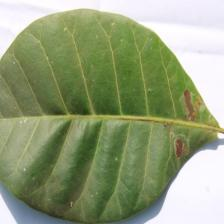leaf miner: (0, 7, 223, 223)
